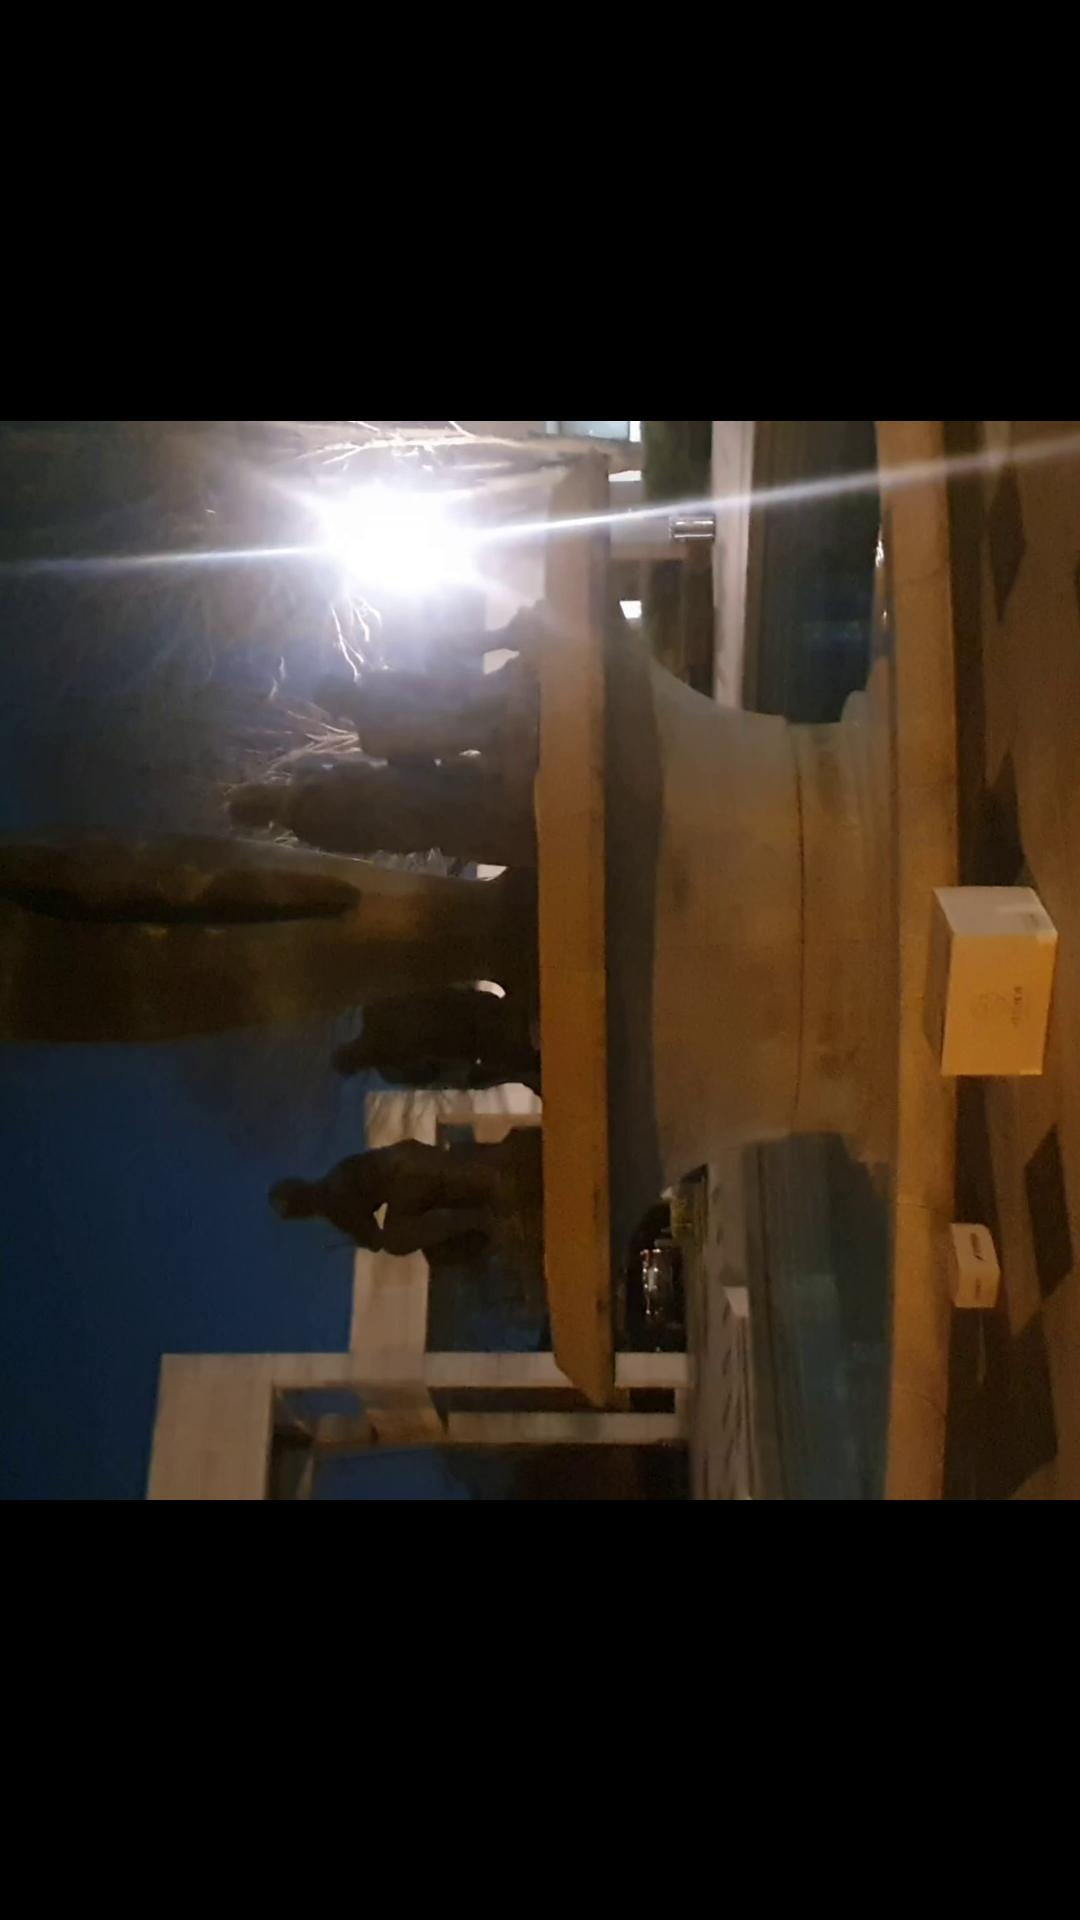Box: (893, 876, 1063, 1098), (928, 1205, 1005, 1327)
